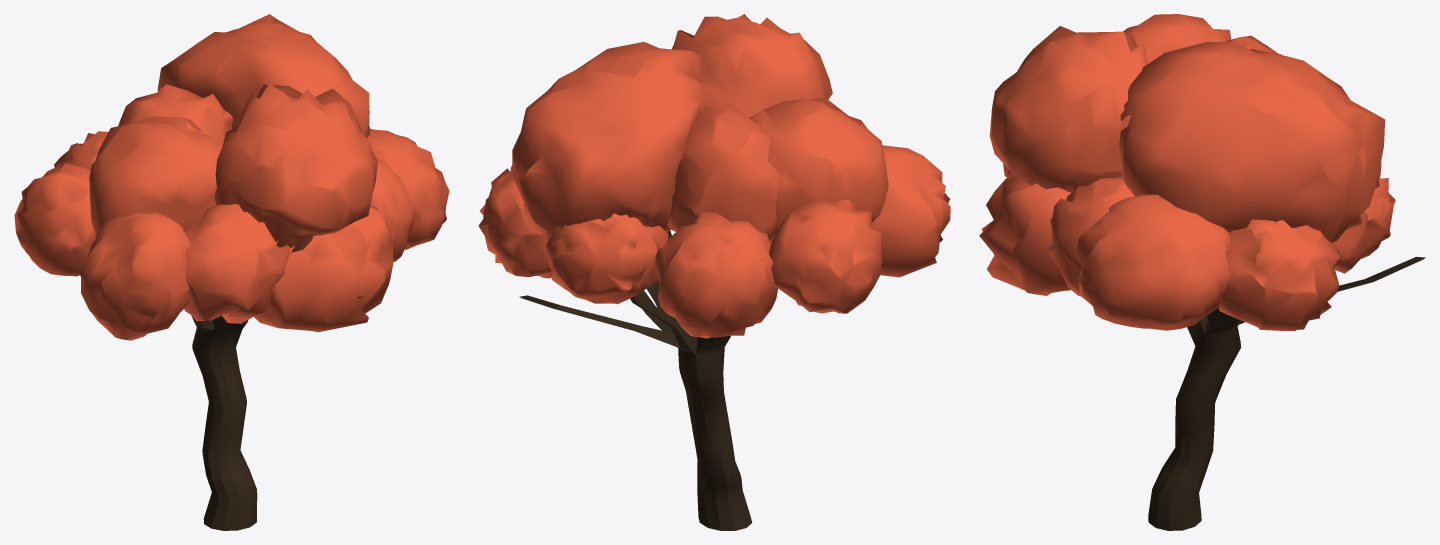
File: tree2.fbx
3 views of the same model, side by side, from view 1: azimuth 30°, elevation 25°; view 2: azimuth 150°, elevation 25°; view 3: azimuth 270°, elevation 25° (orthographic). The views are drawn at different scales.
Parts seen in each view (by area): view 1: tree4; view 2: tree4; view 3: tree4.
Part boxes in pixels (box(x1,y1,x2,y2)): tree4: box(14, 14, 449, 530); tree4: box(478, 14, 950, 530); tree4: box(979, 14, 1425, 530).
Size of the model in its own units: 5.86 by 6.67 by 5.44.
